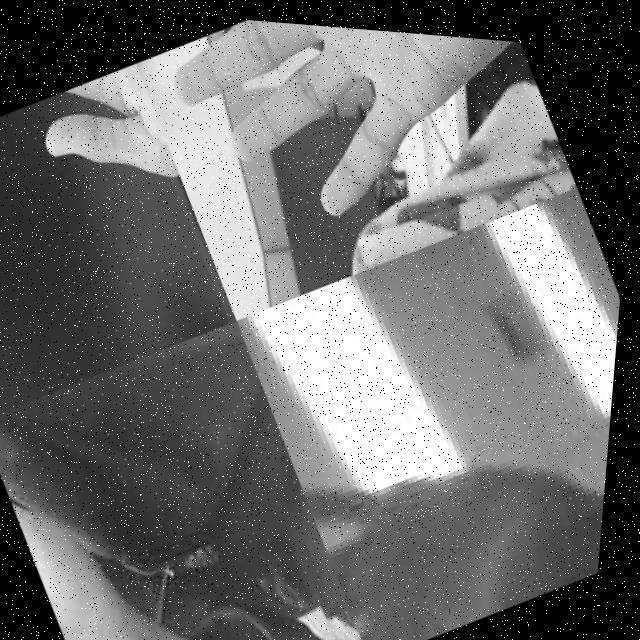no-gloves: (144, 11, 574, 298), (0, 337, 325, 640), (289, 360, 610, 640), (0, 52, 211, 305)
